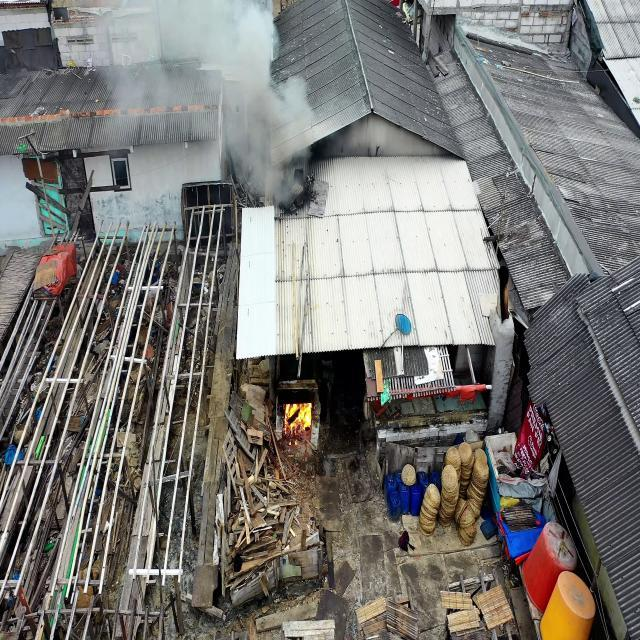Fire: (283, 396, 313, 446)
Smoke: (92, 1, 320, 208)
